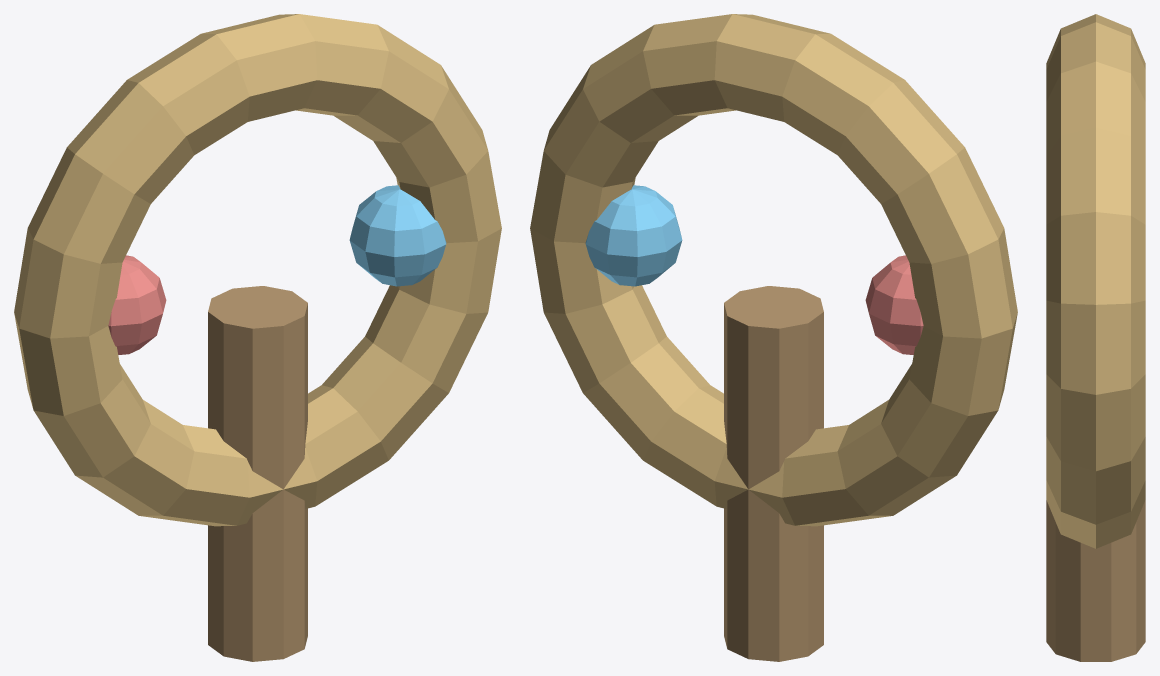
Rendered from SM_Weapon_MagnetCoil_01.glb.
3 renders of one model, left to right at view 1: azimuth 30°, elevation 25°; view 2: azimuth 150°, elevation 25°; view 3: azimuth 270°, elevation 25°, orthographic. The views are drawn at different scales.
Parts seen in each view (by area): view 1: SM_Magnet_Coil, SM_Magnet_Pole, SM_Magnet_N_R, SM_Magnet_N_L; view 2: SM_Magnet_Coil, SM_Magnet_Pole, SM_Magnet_N_R, SM_Magnet_N_L; view 3: SM_Magnet_Coil, SM_Magnet_Pole.
Boxes of the visible parts, bbox=[...] form: SM_Magnet_Coil: bbox=[14, 14, 501, 526]; SM_Magnet_Pole: bbox=[208, 286, 307, 661]; SM_Magnet_N_R: bbox=[349, 185, 446, 286]; SM_Magnet_N_L: bbox=[108, 255, 166, 354]; SM_Magnet_Coil: bbox=[530, 14, 1017, 526]; SM_Magnet_Pole: bbox=[724, 286, 823, 661]; SM_Magnet_N_R: bbox=[585, 185, 682, 286]; SM_Magnet_N_L: bbox=[865, 255, 923, 354]; SM_Magnet_Coil: bbox=[1046, 14, 1145, 548]; SM_Magnet_Pole: bbox=[1046, 500, 1145, 661].
Bounding box in the file's own units: 0.54 × 0.6659 × 0.1.
